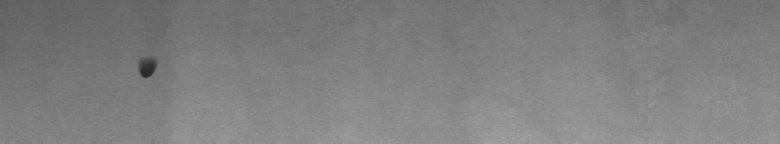fi: (132, 51, 163, 88)
